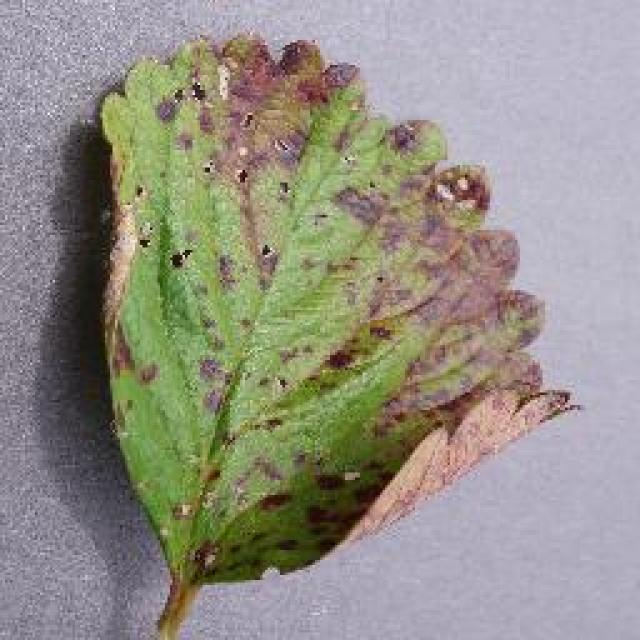Strawberry leaf scorch: (125, 80, 440, 465)
